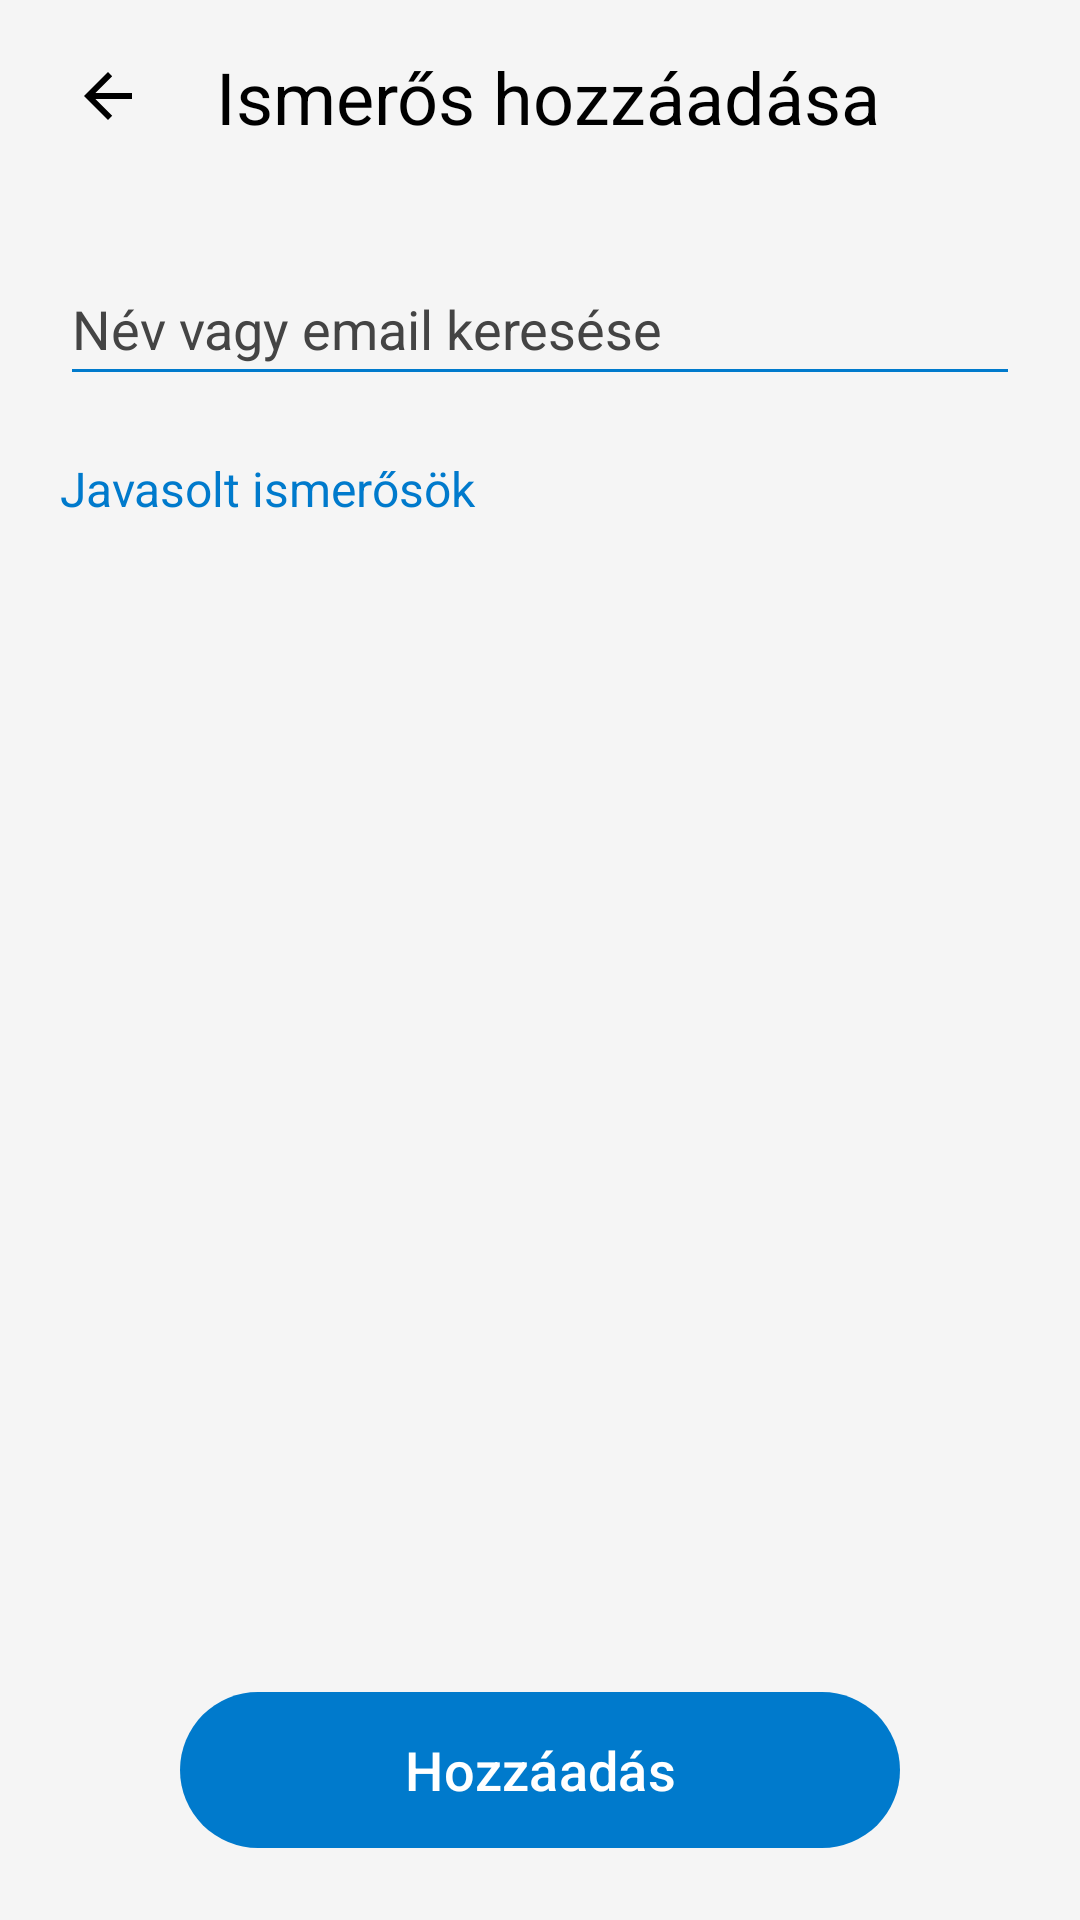

Locate icon controls on the screen. Image size 1080 x 1920, boxes as (x1, y1, x2, y2).
Vissza: (84, 72, 132, 120)
